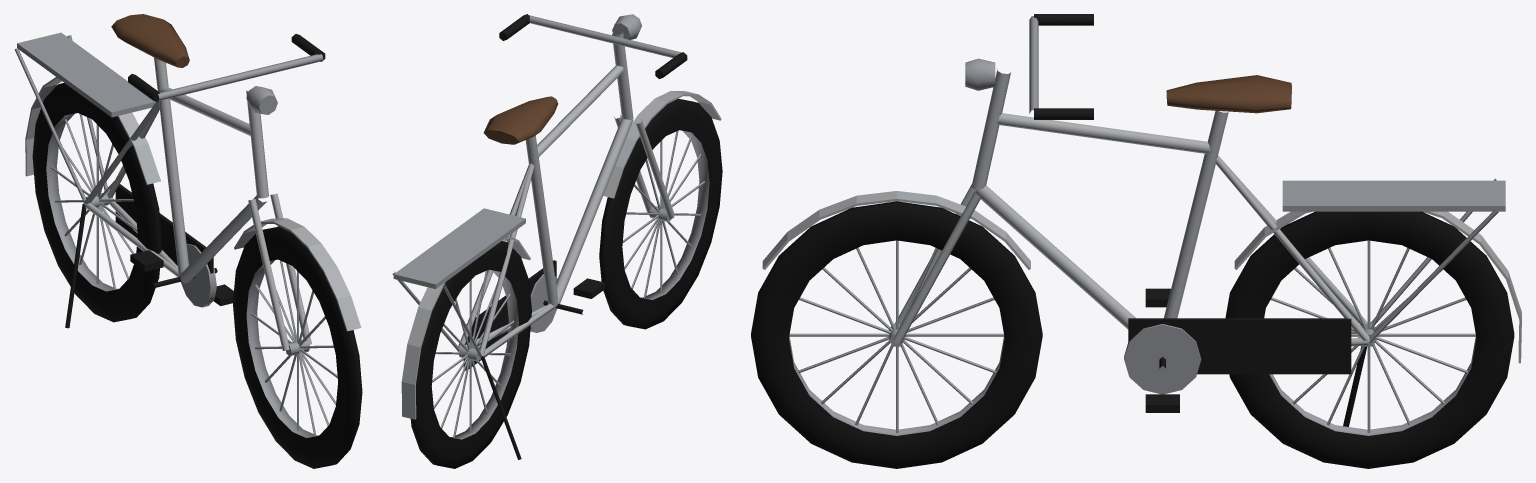
The model's file is bicycle.glb.
3 renders of one model, left to right at view 1: azimuth 30°, elevation 25°; view 2: azimuth 150°, elevation 25°; view 3: azimuth 270°, elevation 25°, orthographic. The views are drawn at different scales.
Parts seen in each view (by area): view 1: bicycle; view 2: bicycle; view 3: bicycle.
Part boxes in pixels (bbox=[...]): bicycle: bbox=[14, 14, 362, 468]; bicycle: bbox=[392, 14, 722, 468]; bicycle: bbox=[751, 14, 1521, 468].
Size of the model in its own units: 0.546 by 1.05 by 1.8.
